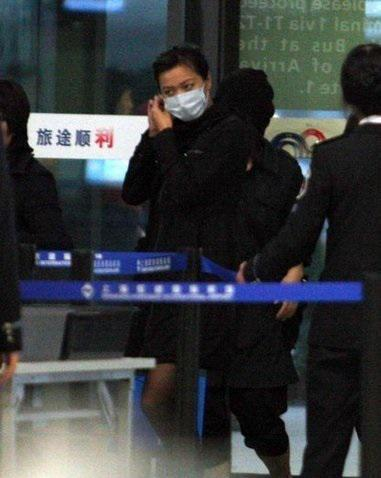OK: (160, 74, 207, 121)
